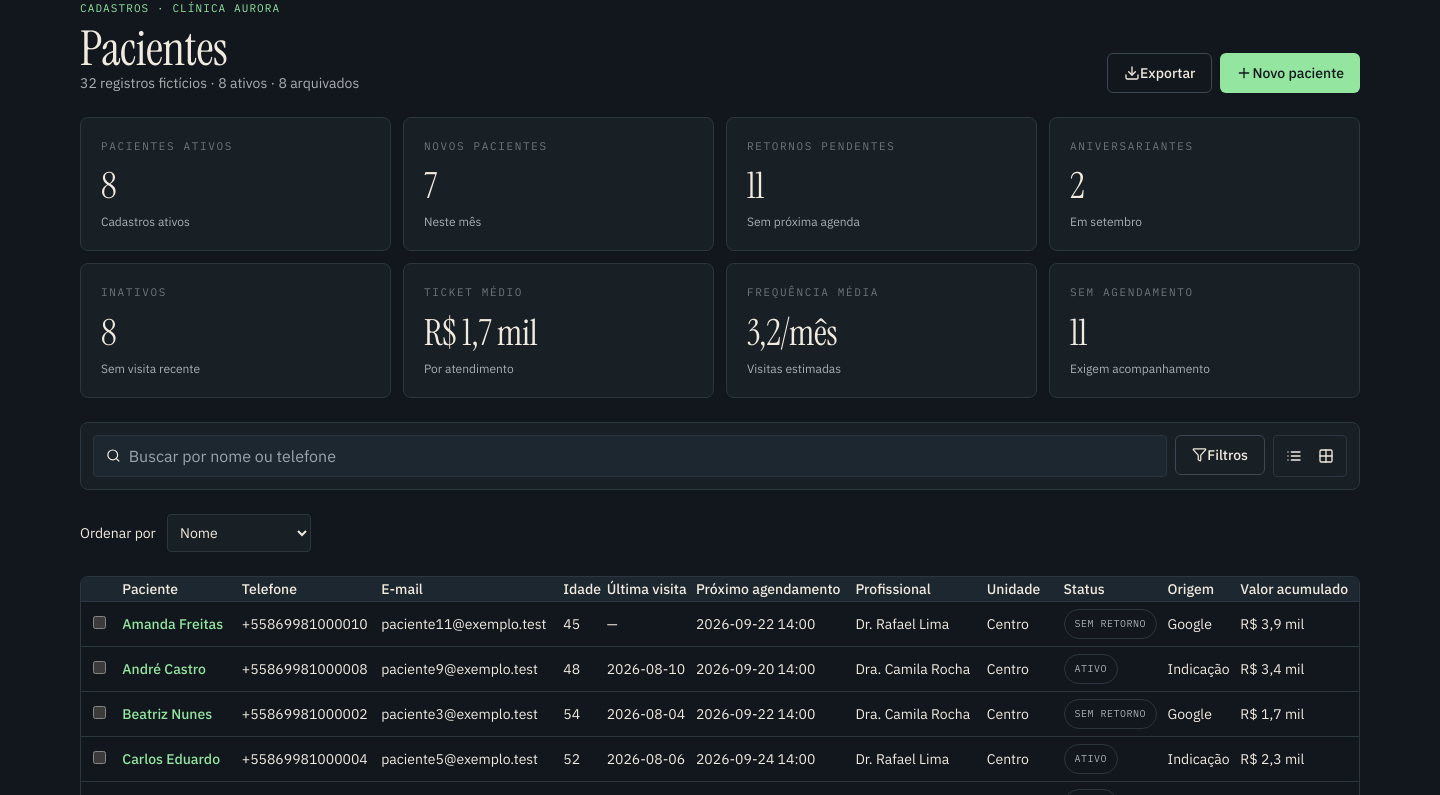
Scenario: Pacientes demonstrativos › valida criação em etapas
Click the button "Novo paciente" at [1290, 72], box x1=1220 y1=52 x2=1360 y2=92
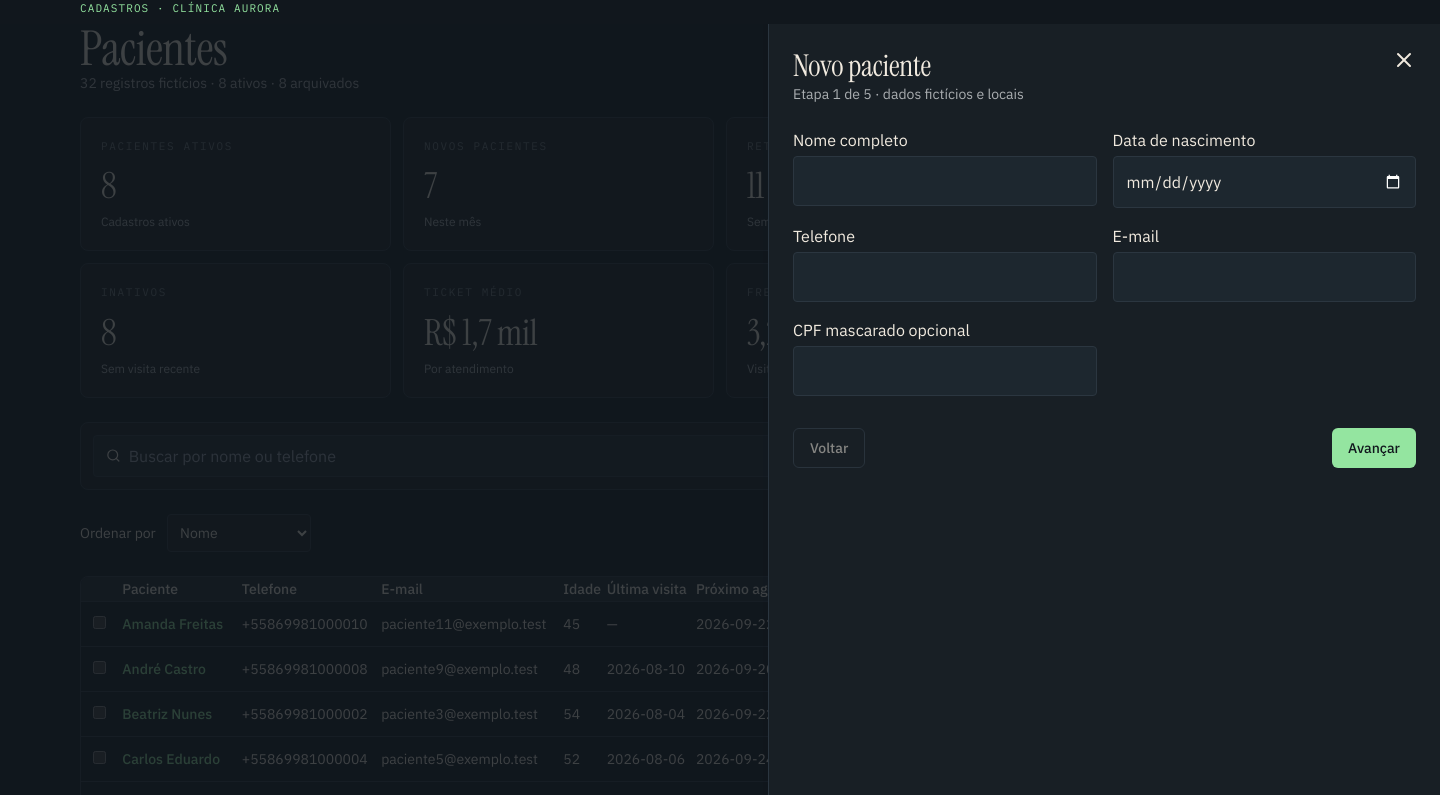
Click the button "Avançar" at [1374, 448], box x1=1332 y1=428 x2=1416 y2=468
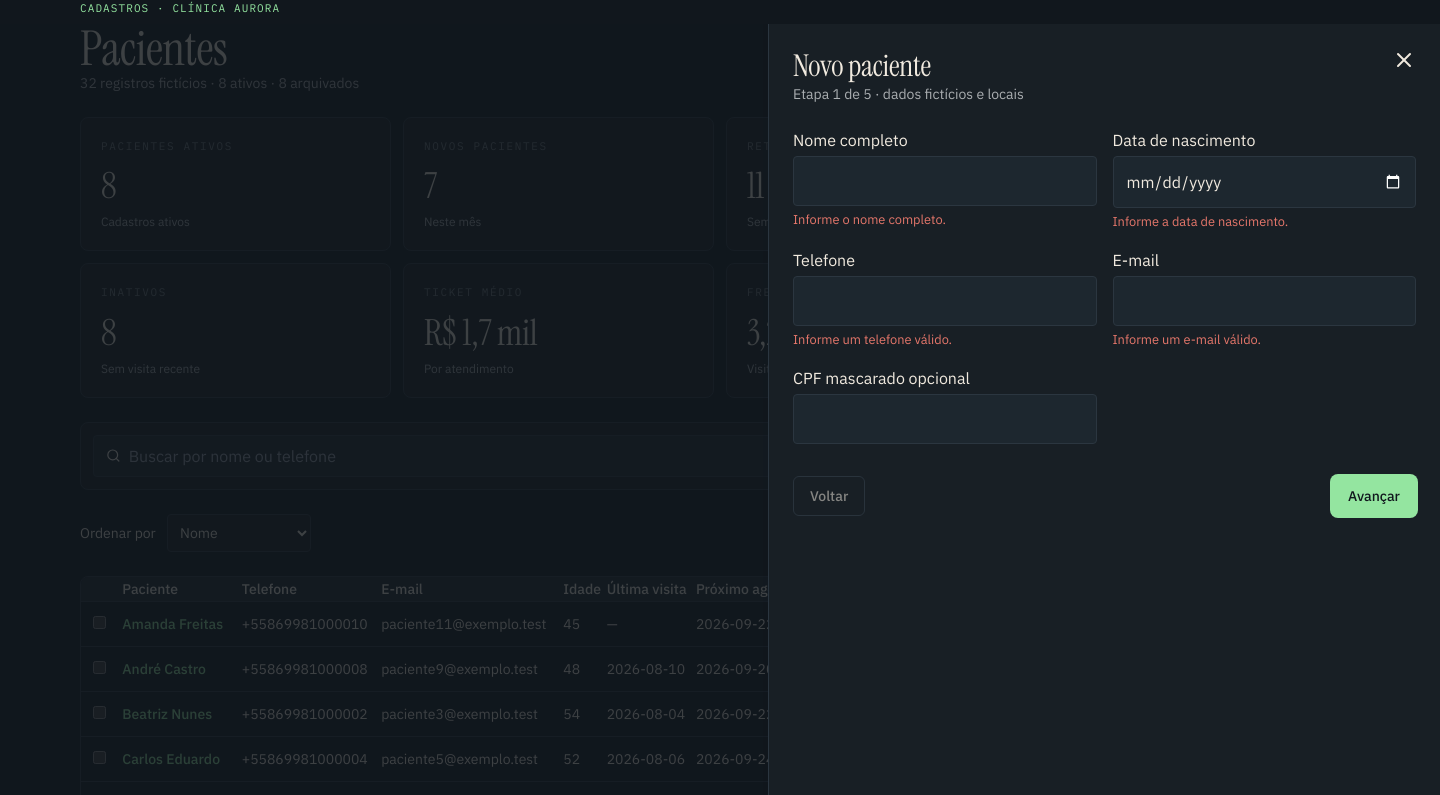
expect the text "Informe o nome completo." is shown: met, box x1=793 y1=211 x2=946 y2=228
